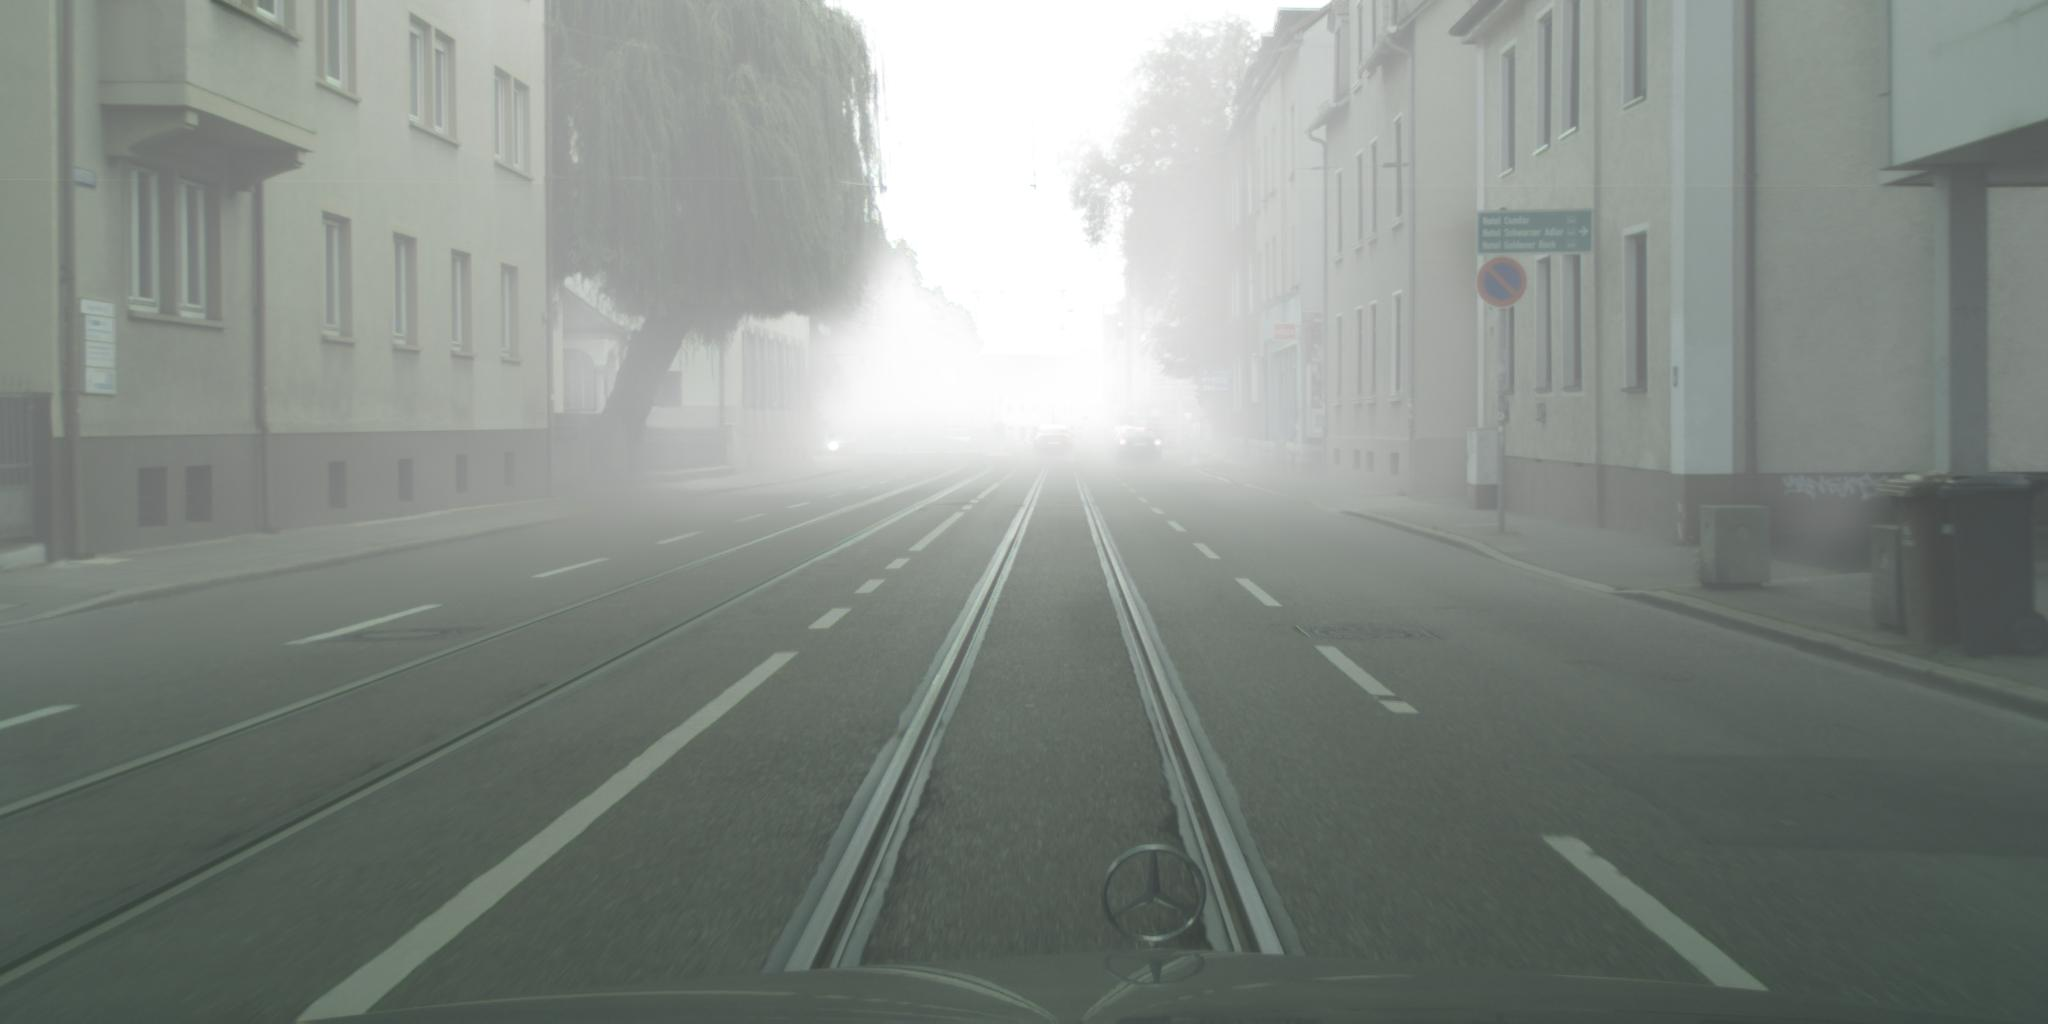car: (882, 427, 970, 456), (1109, 428, 1164, 466), (839, 430, 909, 456), (1033, 424, 1075, 464), (1105, 427, 1134, 465), (944, 428, 977, 451), (828, 435, 863, 455), (1021, 435, 1042, 455), (1066, 444, 1091, 455)
